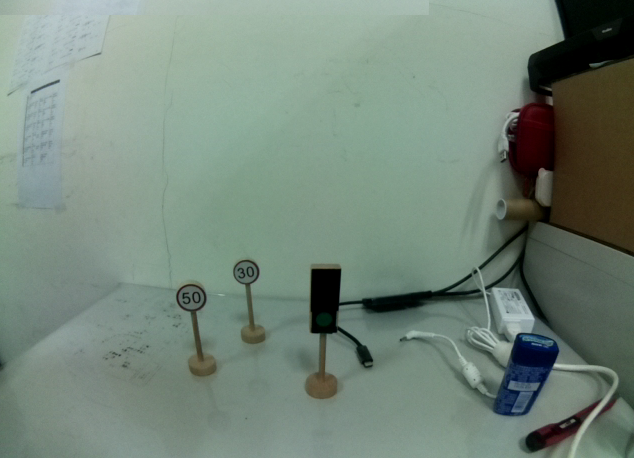Green: (308, 261, 341, 337)
Speed30: (232, 258, 261, 285)
Speed50: (176, 280, 207, 313)
